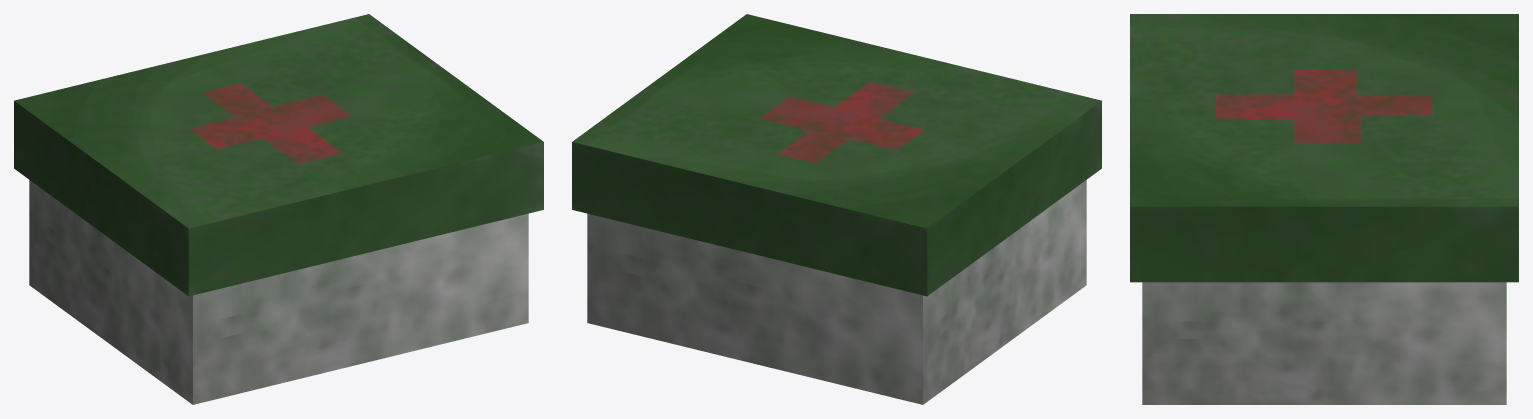
File: kit.FBX
3 renders of one model, left to right at view 1: azimuth 30°, elevation 25°; view 2: azimuth 150°, elevation 25°; view 3: azimuth 270°, elevation 25°, orthographic. The views are drawn at different scales.
Parts seen in each view (by area): view 1: Box001; view 2: Box001; view 3: Box001.
Boxes of the visible parts, box(x1,y1,x2,y2) form: Box001: box(14, 14, 543, 404); Box001: box(572, 14, 1101, 404); Box001: box(1130, 14, 1518, 404).
Size of the model in its own units: 24.51 by 12.06 by 20.89.
